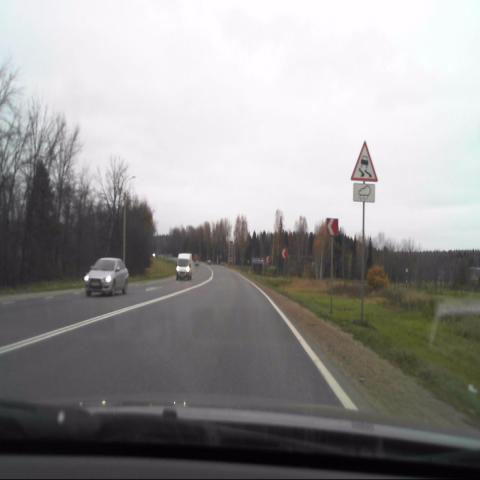1_15: (350, 140, 378, 182)
8_16: (354, 183, 376, 204)
